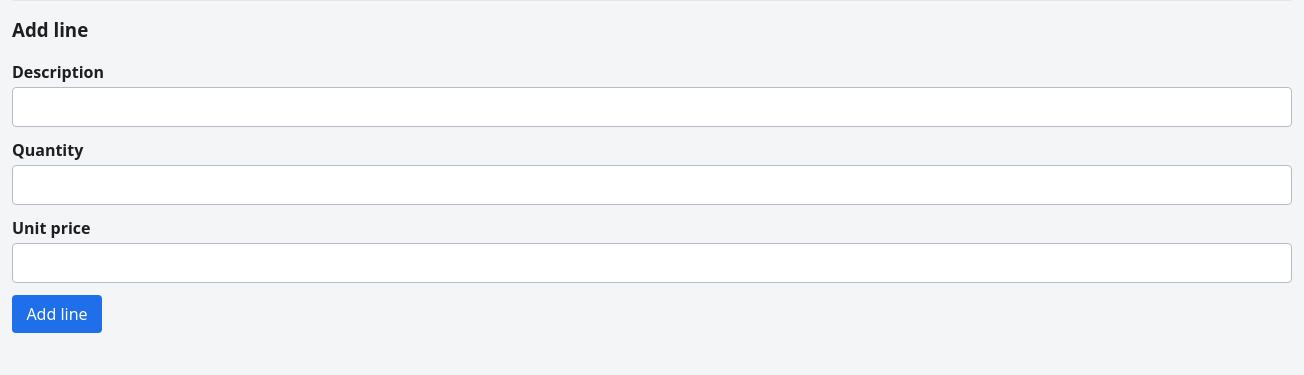
Test: T-11 OrderLineForm › rejects quantity -1
Type "Widget" into the field labelled "Description" at (652, 107), box [12,87,1292,127]
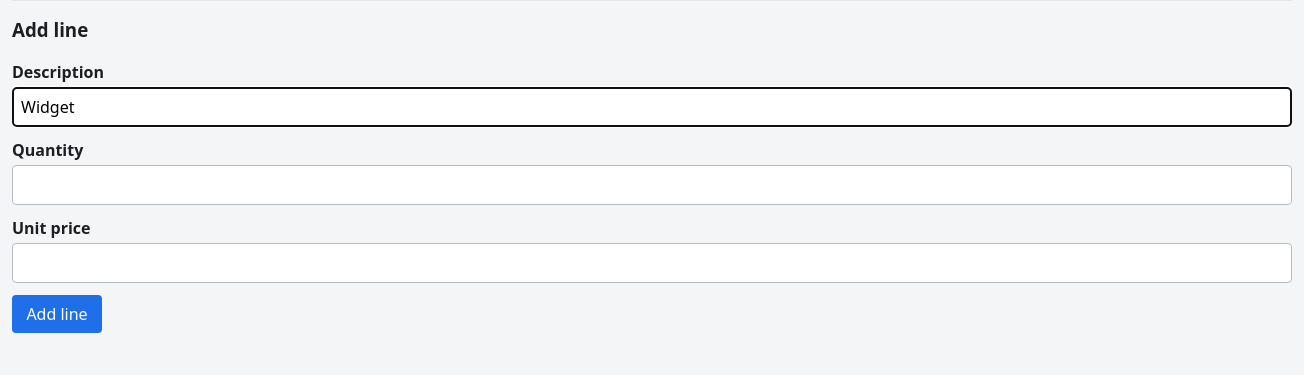
Type "-1" into the field labelled "Quantity" at (652, 185), box [12,165,1292,205]
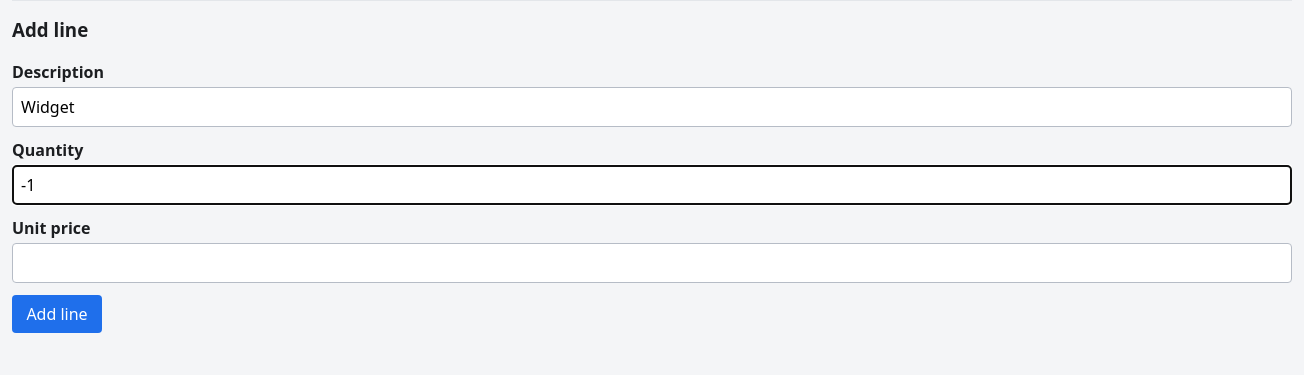
Type "1" into the field labelled "Unit price" at (652, 263), box [12,243,1292,283]
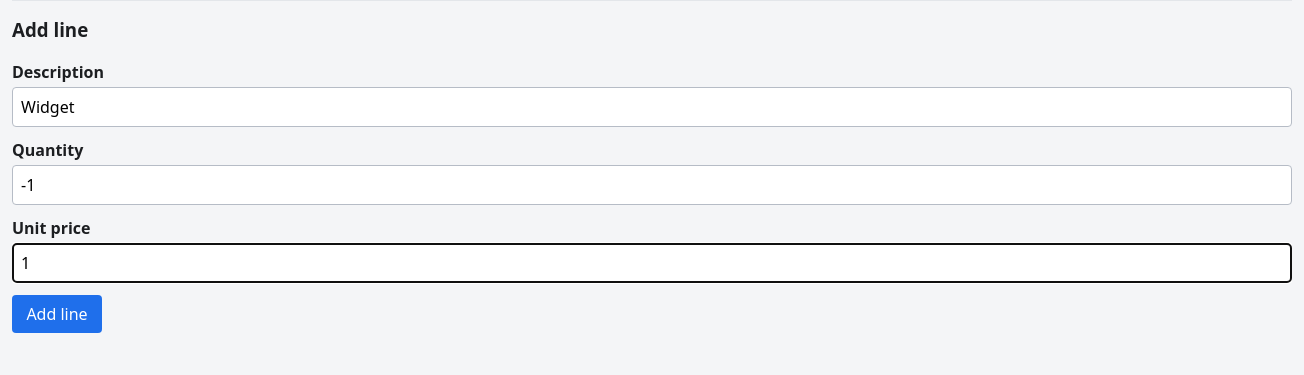
Click the button "Add line" at (57, 314), box [12,295,102,333]
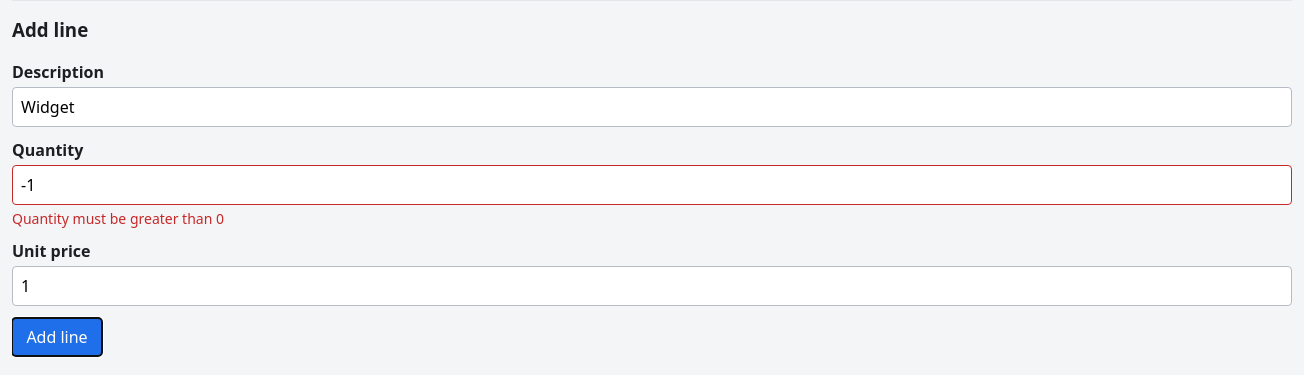
expect the text "Quantity must be greater than 0" is shown: met, box [12,209,224,228]
